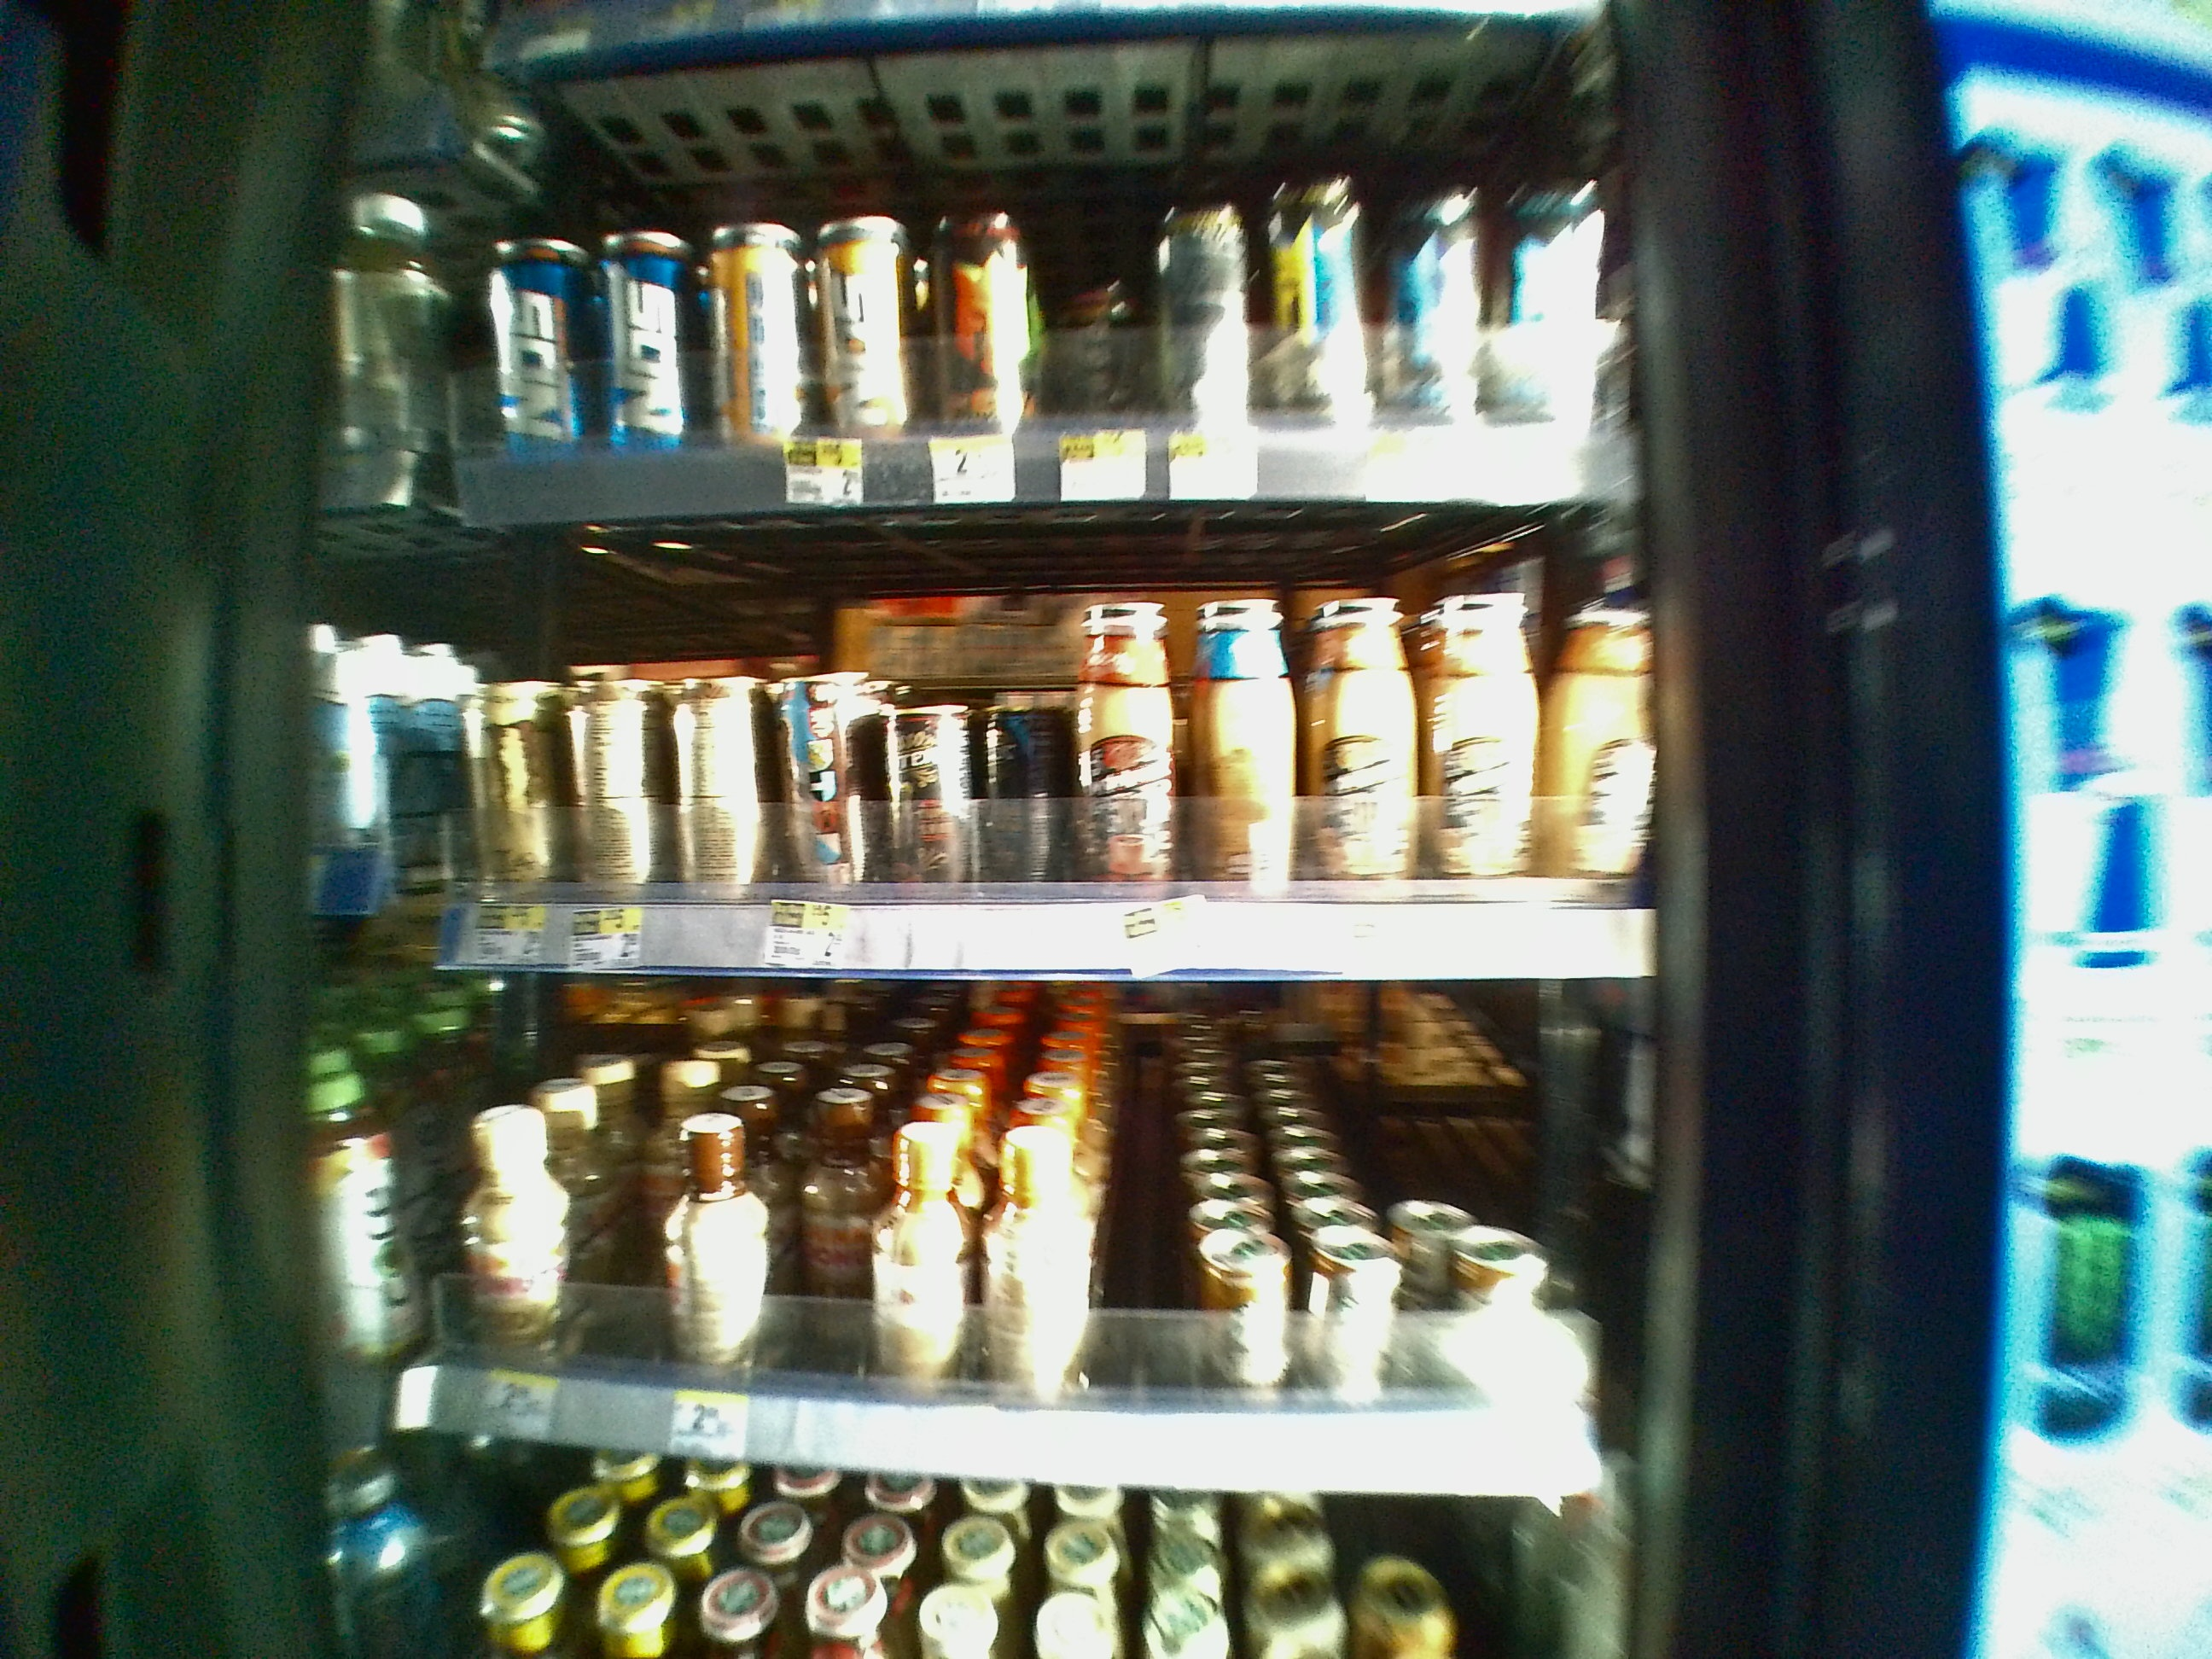shelf: (315, 976, 1672, 1485), (322, 526, 1660, 974)
